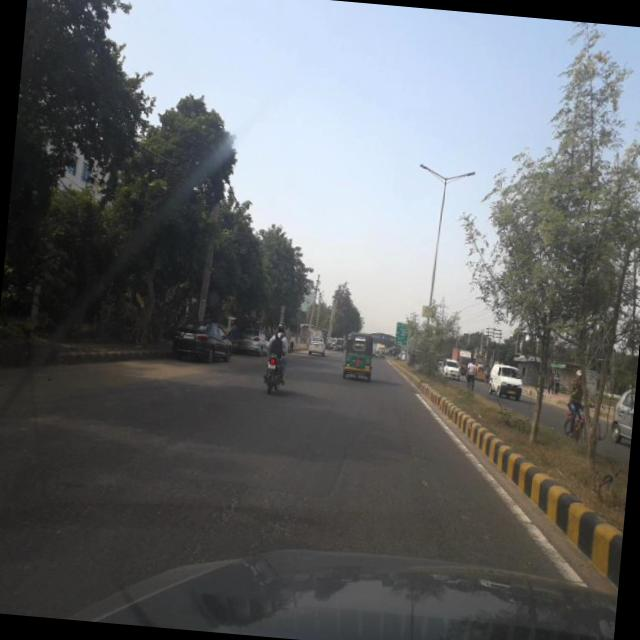crack: (48, 430, 308, 583)
